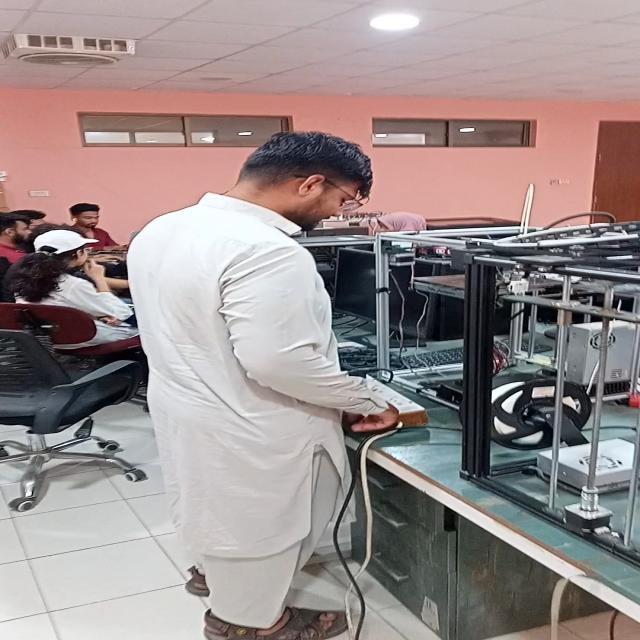dress: (127, 192, 409, 638)
